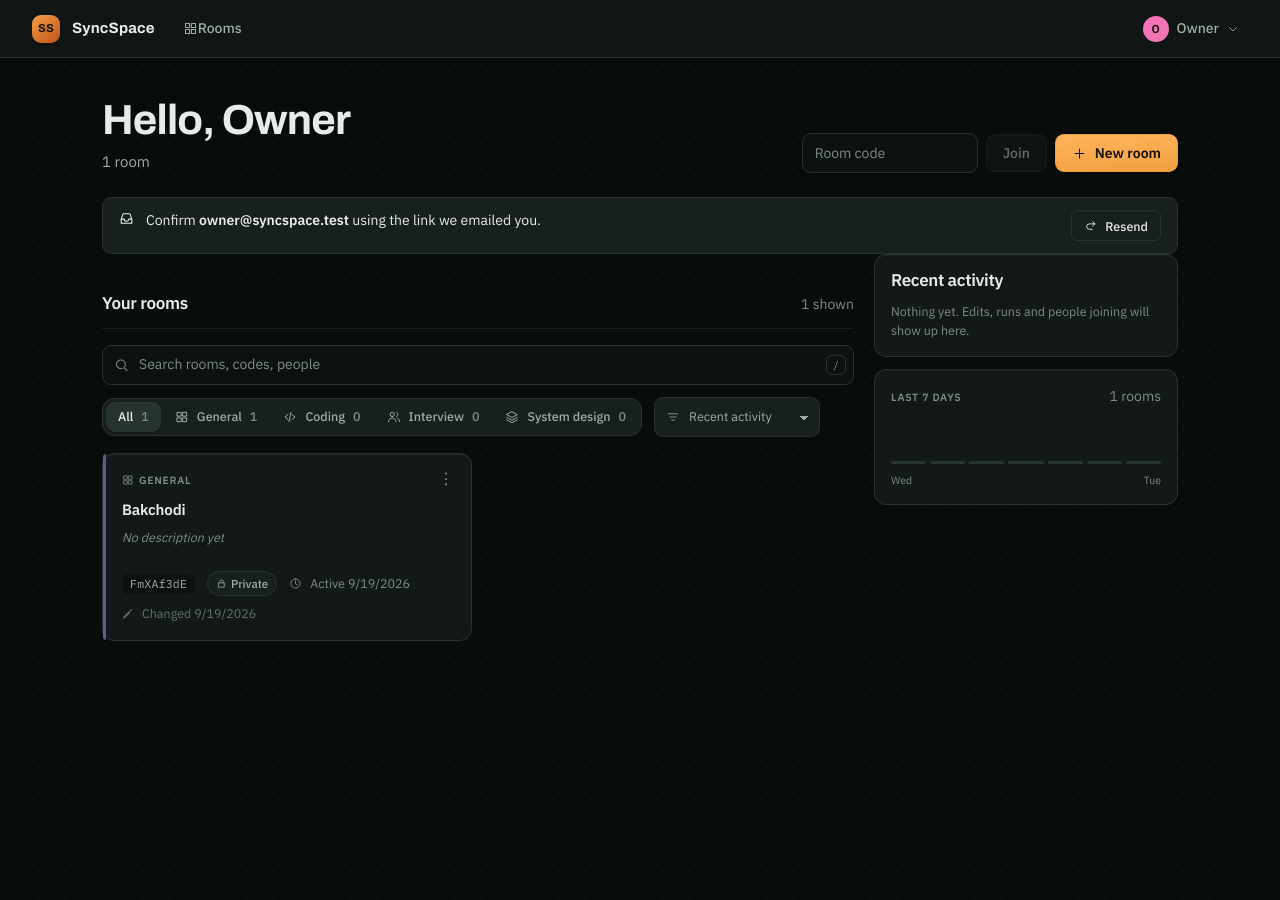
Test: dashboard room management › deletes the room and removes it from the list
Expected: the text "Bakchodi" is shown, [122, 498, 186, 521]
Click the button named "Manage Bakchodi" at (446, 479), box [429, 462, 463, 496]
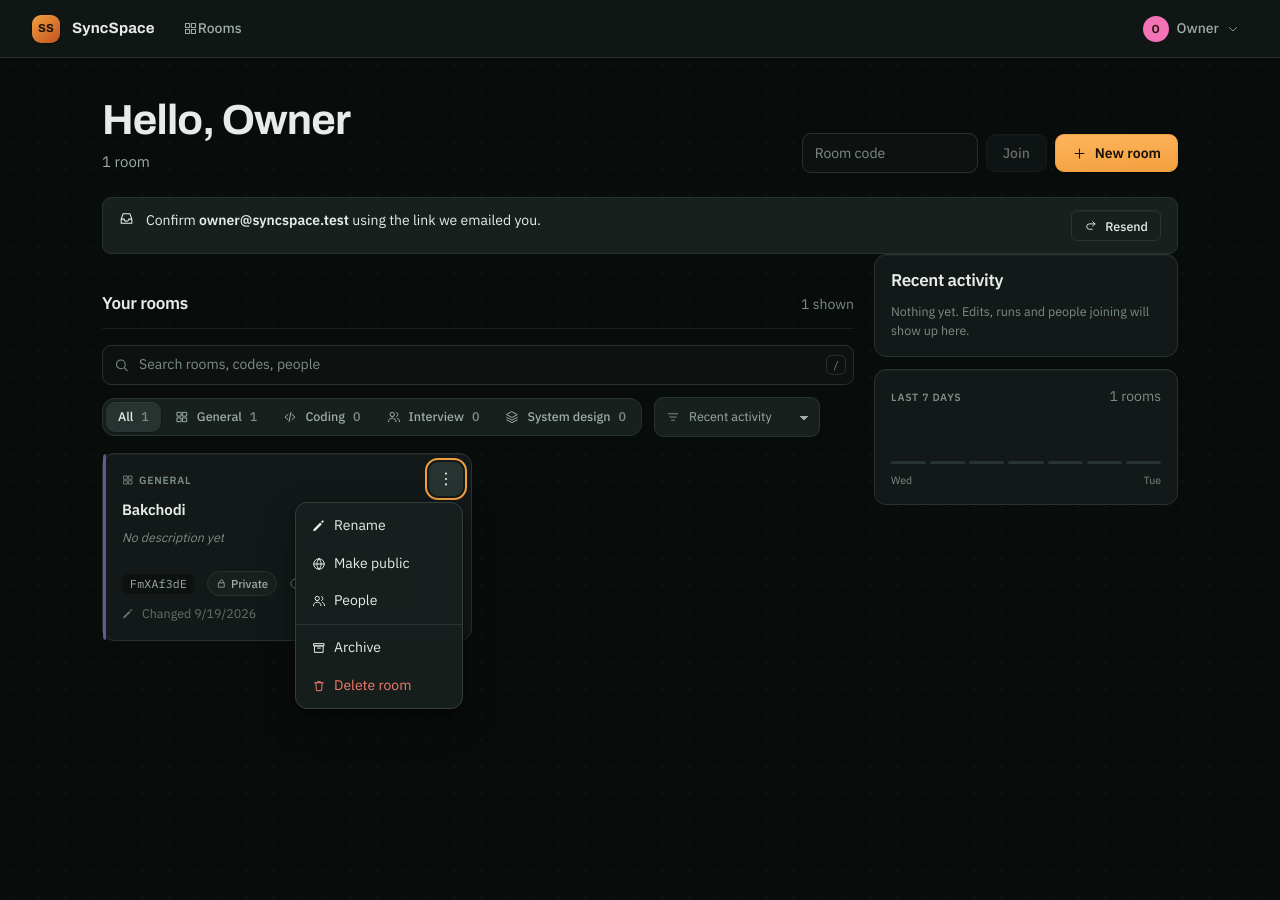
Click the menu item "Delete room" at (379, 686), box [300, 667, 458, 704]
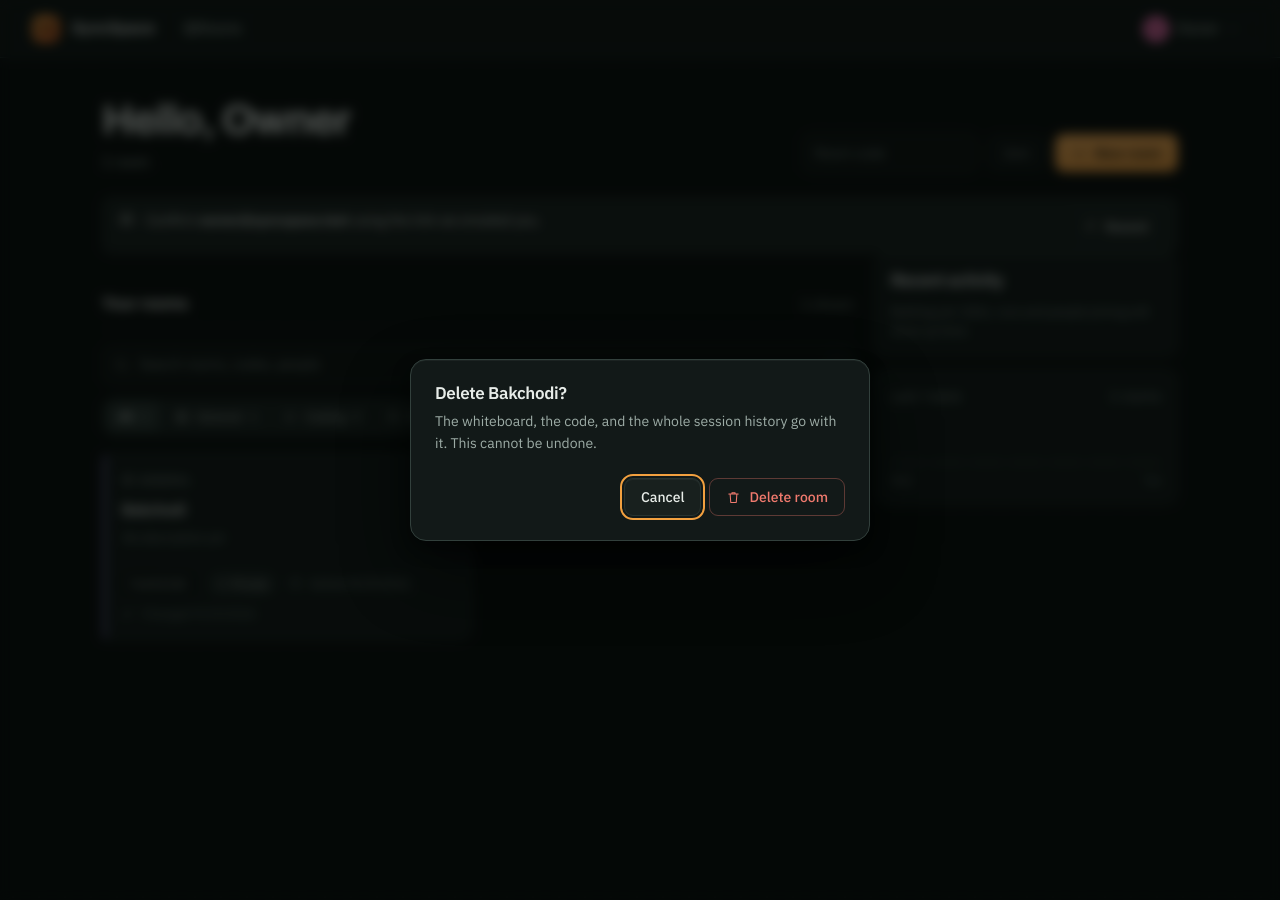
Click the button "Delete room" at (777, 497), box [709, 478, 845, 516]
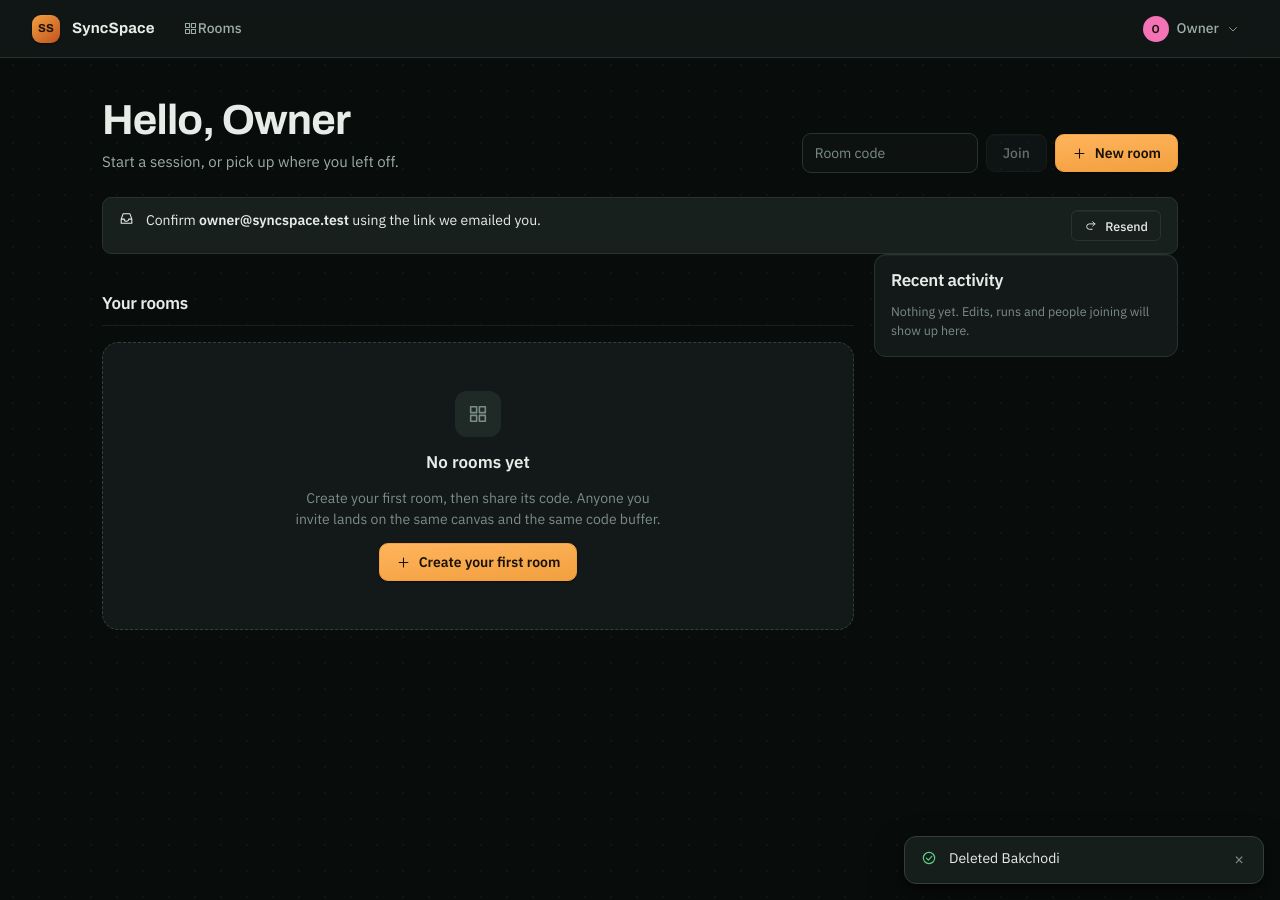
Now the text "Deleted Bakchodi" is shown, box [949, 849, 1060, 867]
